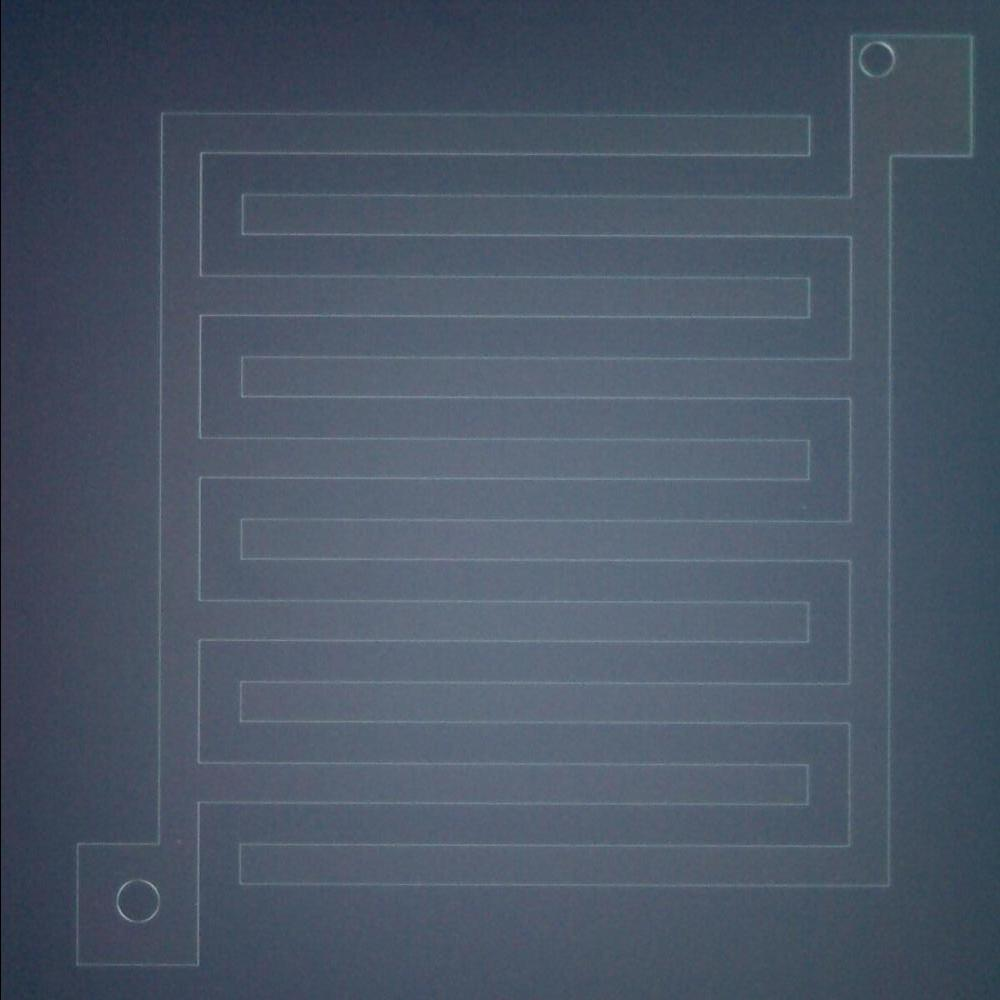circle: (112, 873, 161, 925), (854, 36, 900, 83)
